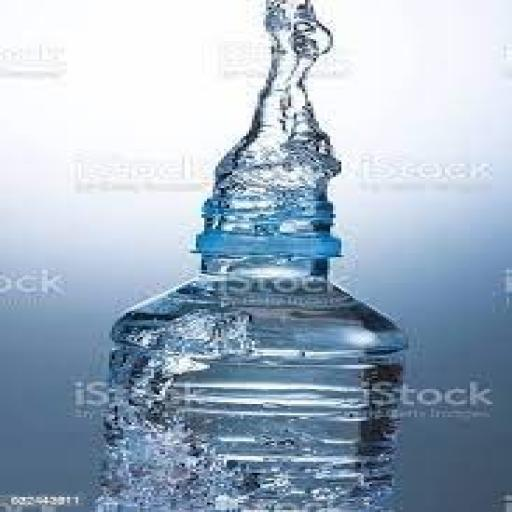bottle: (81, 181, 411, 512)
